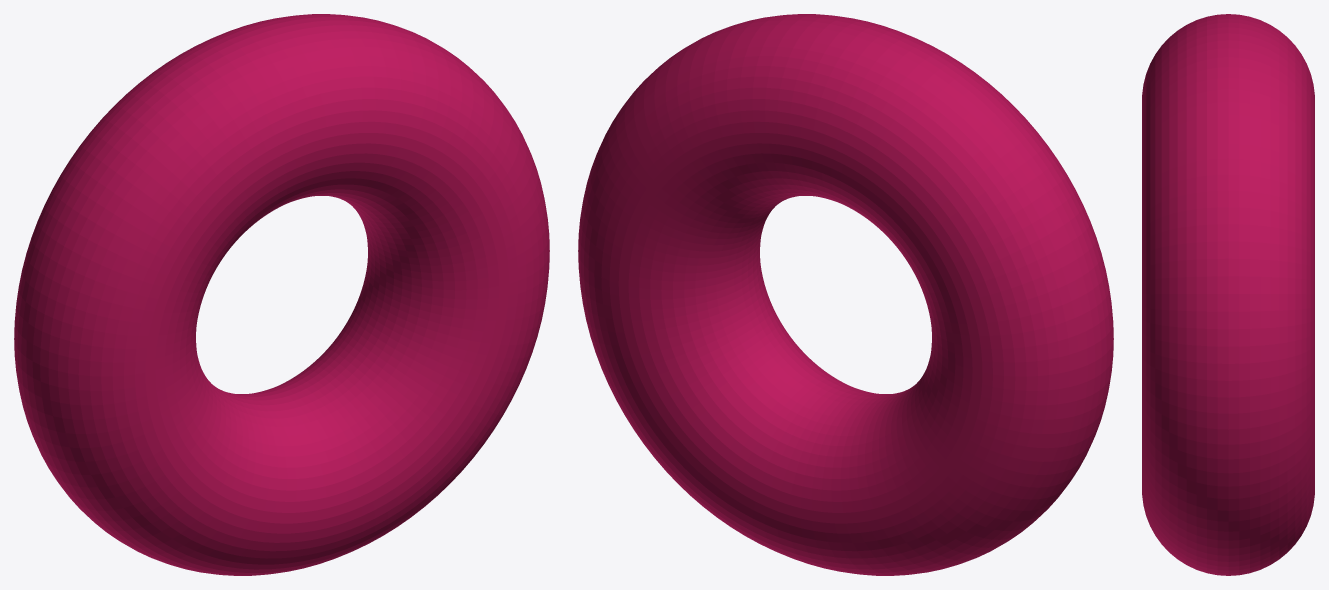
3 views of the same model, side by side, from view 1: azimuth 30°, elevation 25°; view 2: azimuth 150°, elevation 25°; view 3: azimuth 270°, elevation 25° (orthographic). The views are drawn at different scales.
Parts seen in each view (by area): view 1: world; view 2: world; view 3: world.
Boxes of the visible parts, x1=… form: world: x1=14, y1=14, x2=549, y2=575; world: x1=578, y1=14, x2=1113, y2=575; world: x1=1142, y1=14, x2=1314, y2=575.
Bounding box in the file's own units: 29.87 × 29.87 × 9.18.
